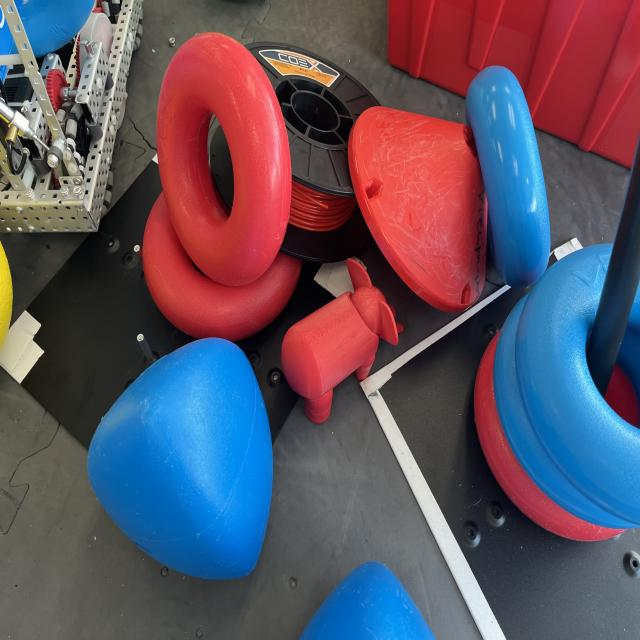Blue-Ring: (516, 243, 640, 525), (494, 295, 631, 528), (465, 65, 550, 287)
Red-Ring: (156, 33, 291, 287), (474, 333, 624, 542), (142, 193, 301, 342)
